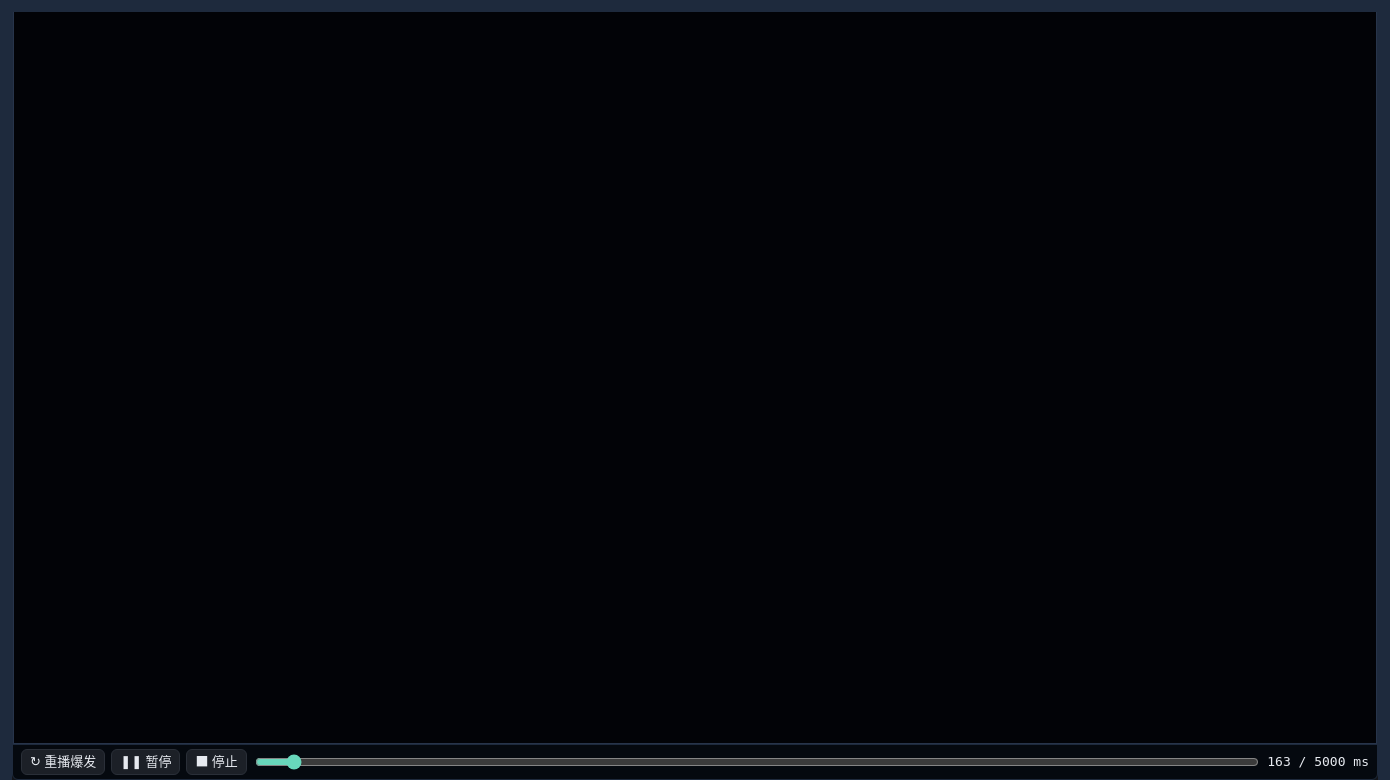
Test: CuePreview transient burst transport › restarts a running or paused burst from zero instead of pausing or resuming
(page scrolled)
Step 1. Press Space
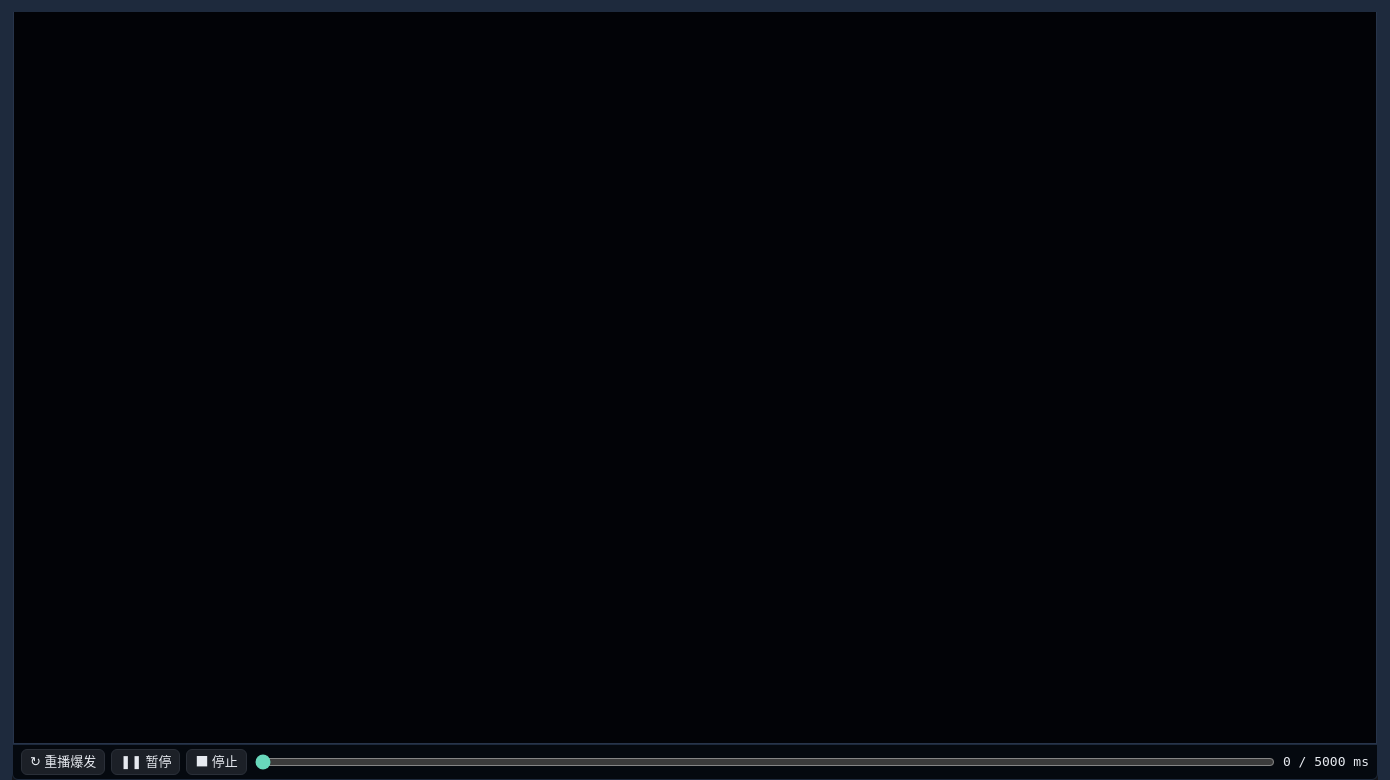
Step 2. Click the button "❚❚ 暂停" → (146, 762), box [111,749,180,775]
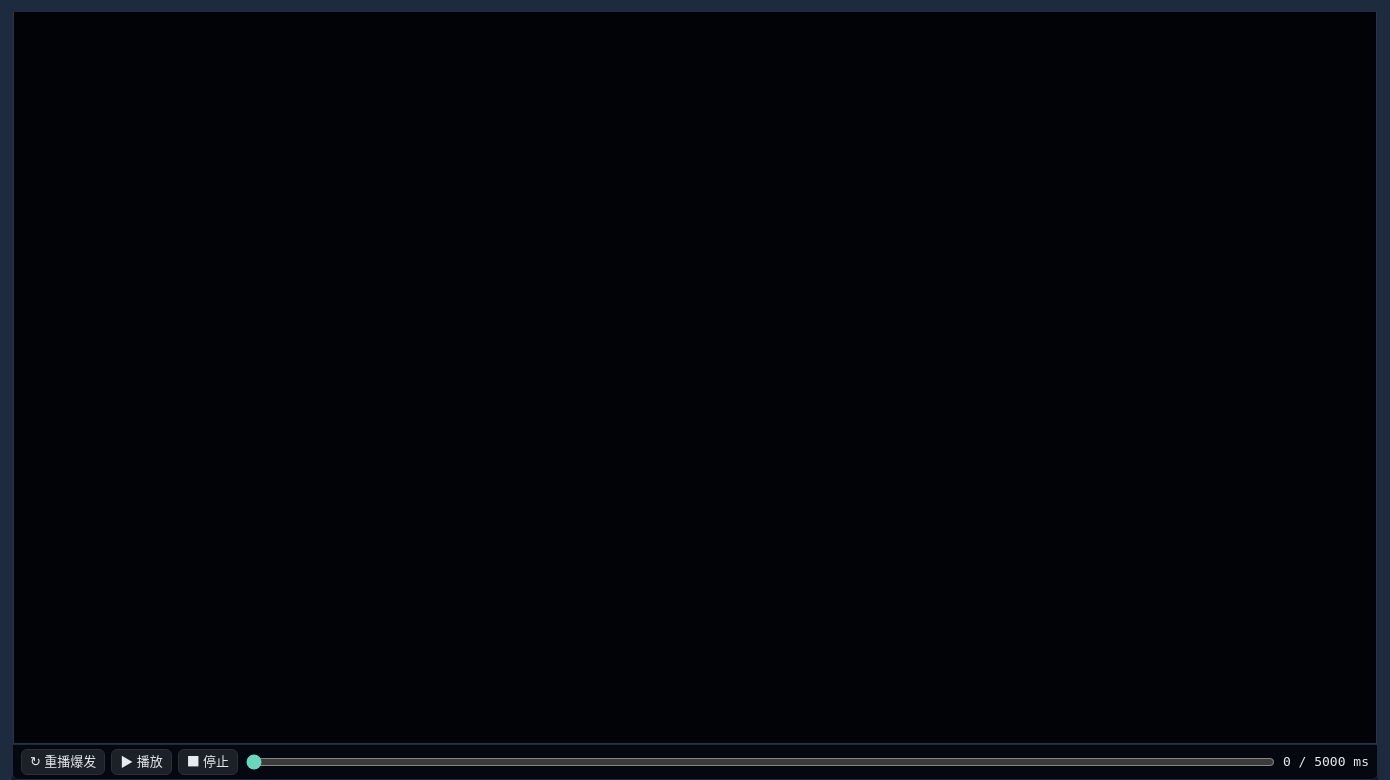
Result: the button "▶ 播放" is shown at [111,749,172,775]
Step 3. Press Space
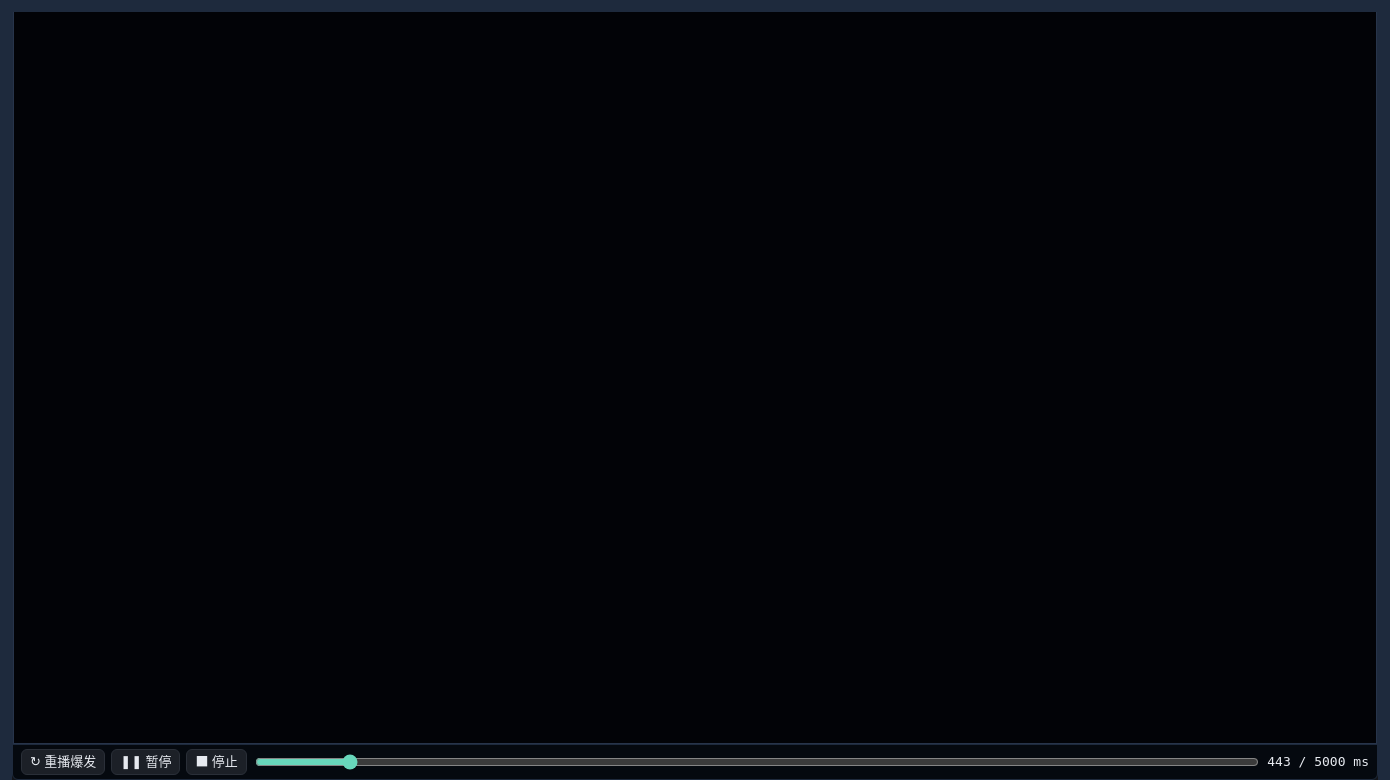
Result: the button "❚❚ 暂停" is shown at [111,749,180,775]
